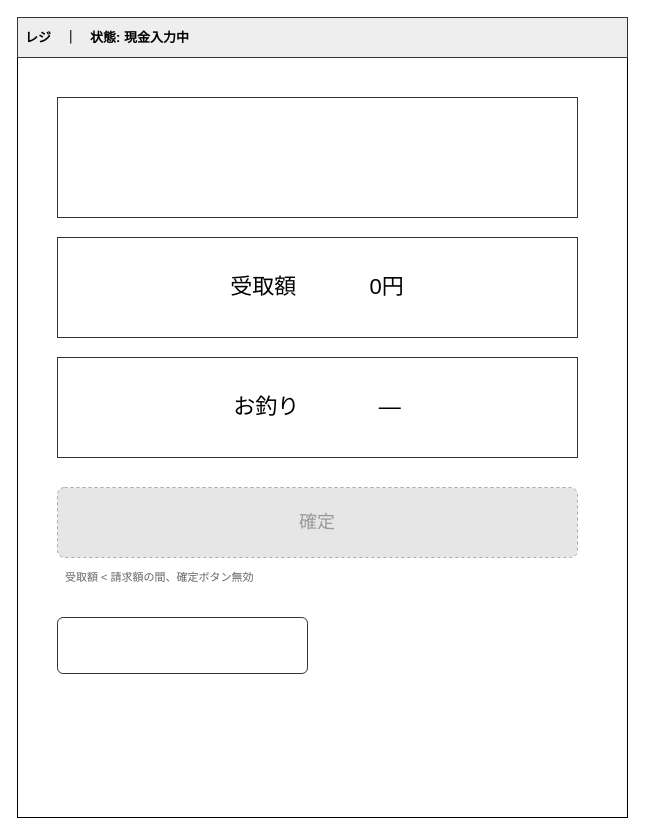
Image size: 645x835. Some labels were removed from this diagram. Each missing label, with the centre of its shape:
会計中断: point (182, 645)
請求額 2,700円: point (317, 157)
